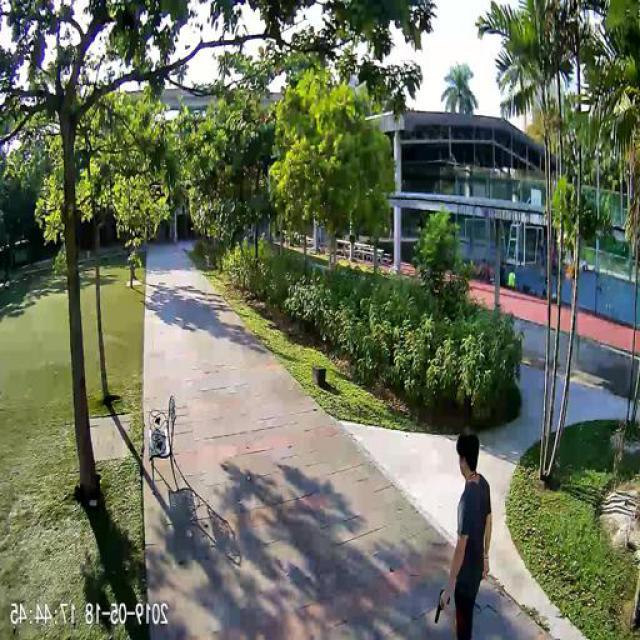Gun: (436, 584, 452, 624)
